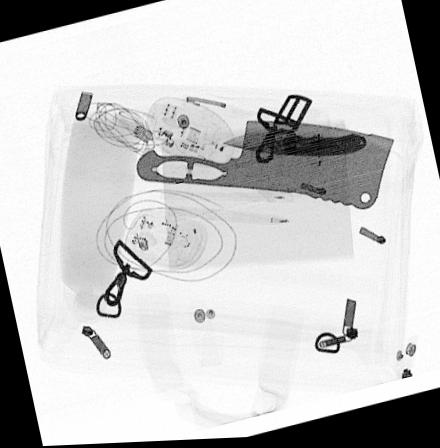Knife: (135, 123, 394, 214), (223, 130, 367, 160)
